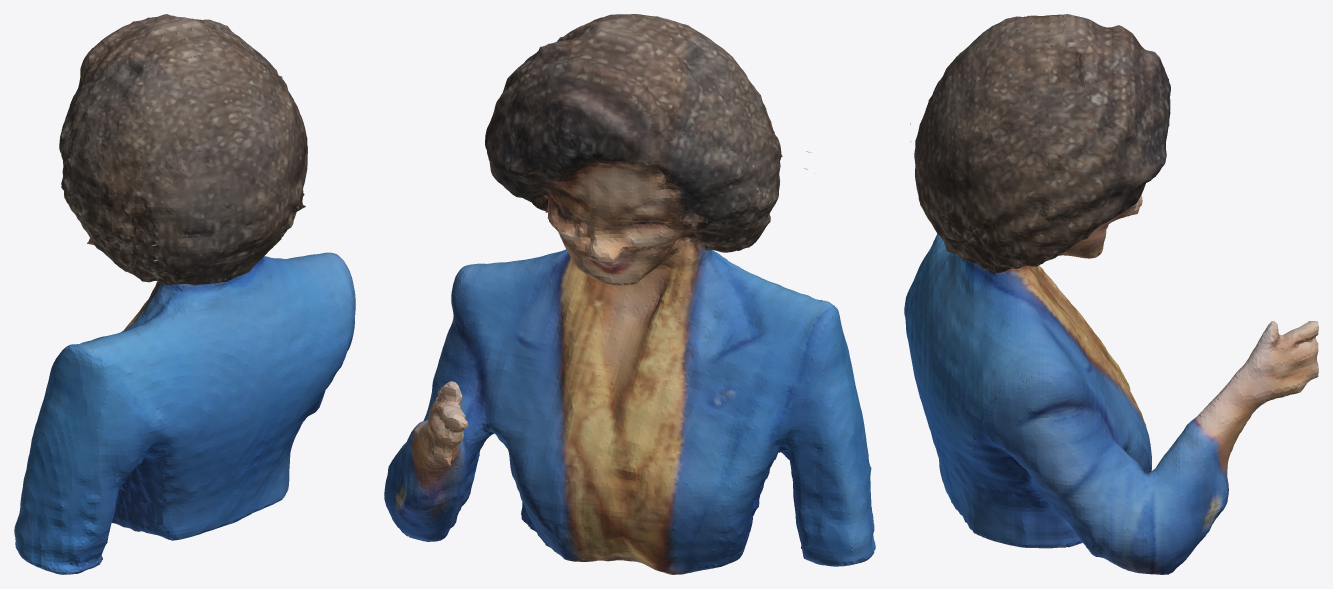
Rendered from jia-officielle.glb.
3 renders of one model, left to right at view 1: azimuth 30°, elevation 25°; view 2: azimuth 150°, elevation 25°; view 3: azimuth 270°, elevation 25°, orthographic. The views are drawn at different scales.
Visible parts, largest first — view 1: world; view 2: world; view 3: world.
Boxes of the visible parts, <box> form: world: <box>14,14,355,574</box>; world: <box>384,14,875,574</box>; world: <box>904,14,1318,574</box>.
Size of the model in its own units: 1.58 by 1.96 by 1.5.
